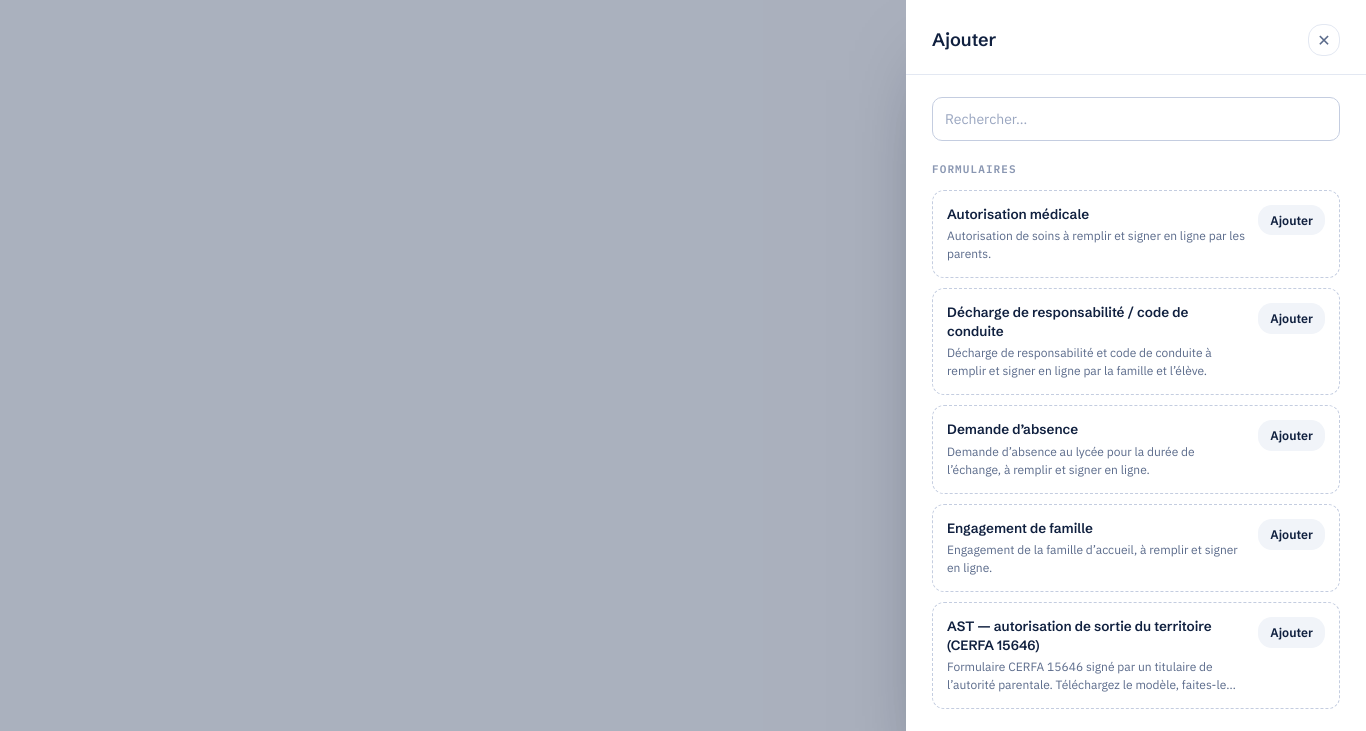
Test: LibraryDrawer › shows a structured add failure inline
Click the button "Ajouter" in the row of "Autorisation médicale". click: coordinates (1292, 220)
box: [1258,204,1325,235]
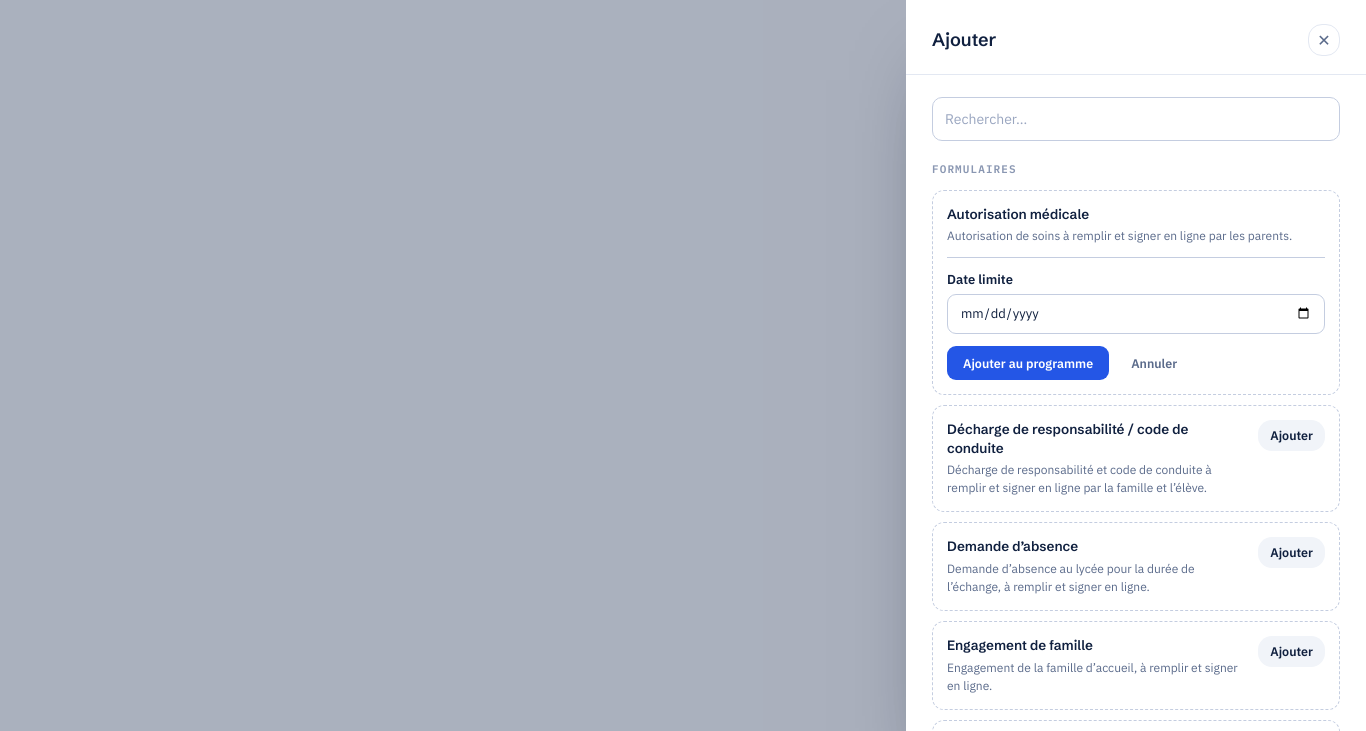
Type "2026-09-30" into the date field labelled "Date limite". click: coordinates (1136, 314)
box: [947,294,1325,334]
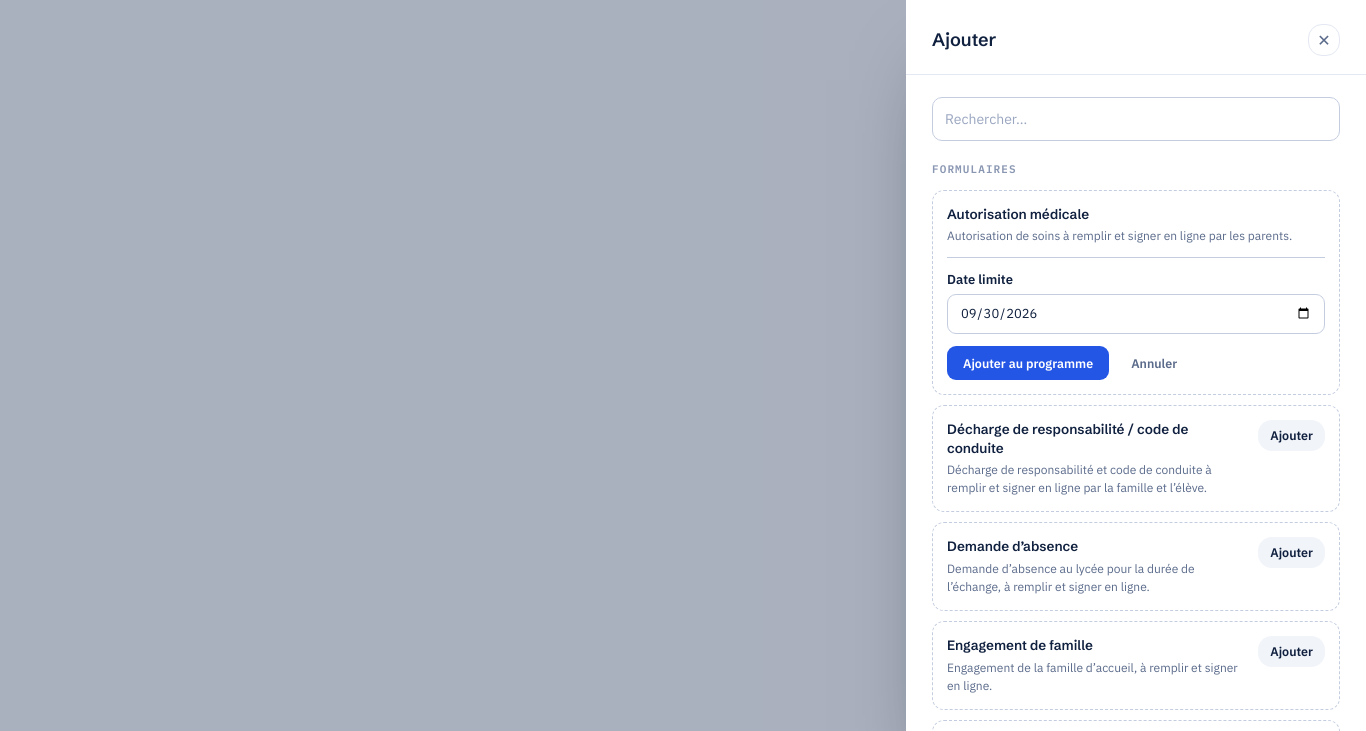
Click the button "Ajouter au programme". click: coordinates (1028, 363)
box: [947,346,1109,380]
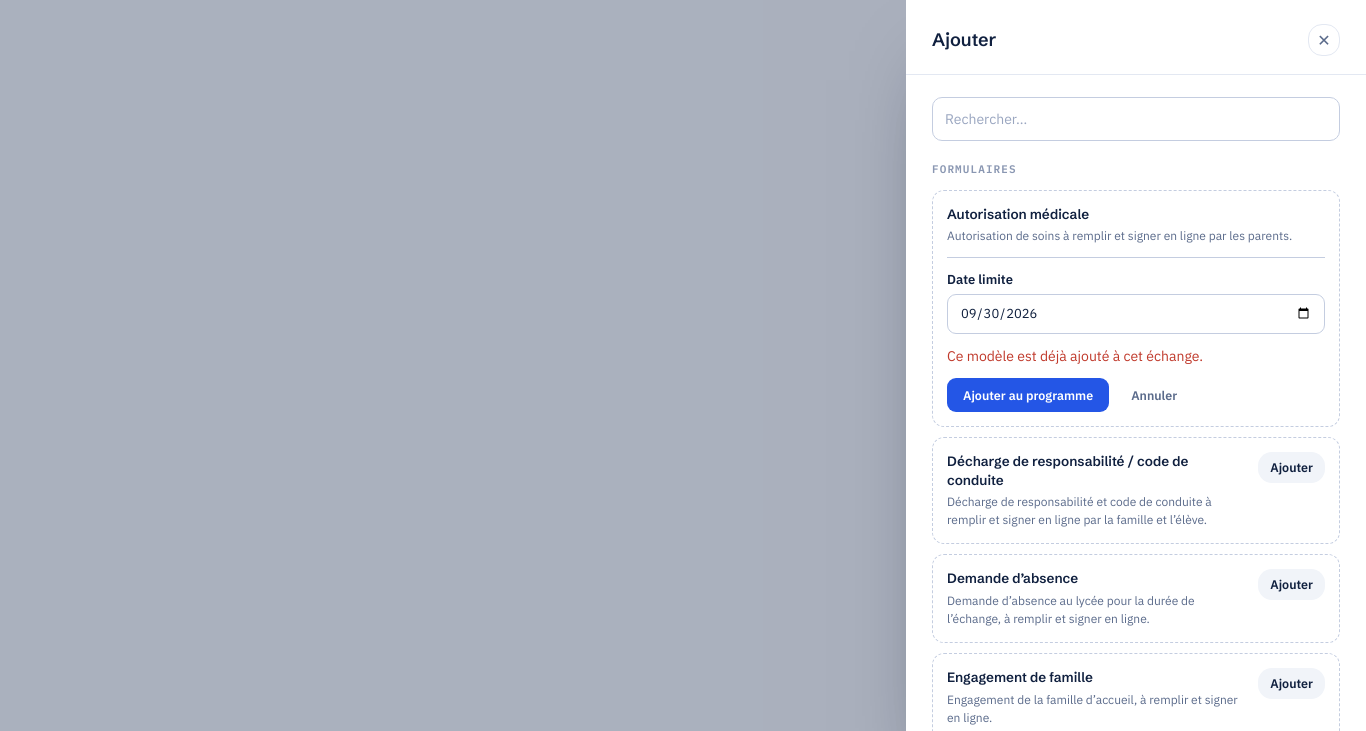
Result: the text "Ce modèle est déjà ajouté à cet échange." is shown at [947,347,1203,365]
